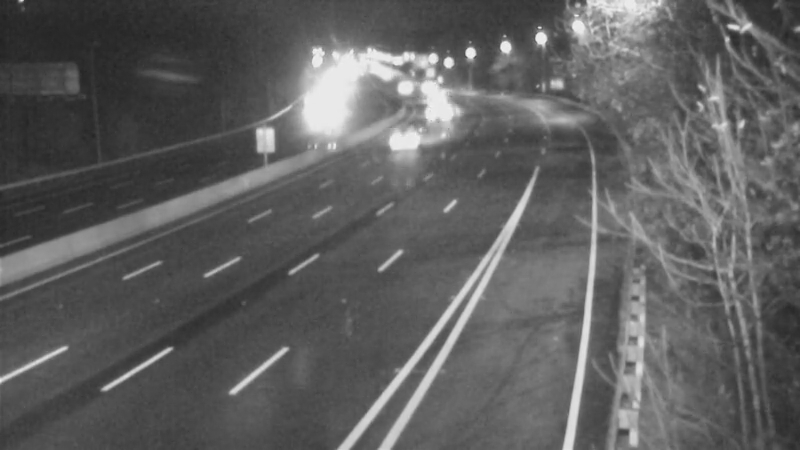vehicle: (380, 64, 430, 114), (400, 62, 450, 112), (408, 72, 458, 122), (417, 91, 467, 141), (379, 114, 429, 164), (287, 96, 337, 146)
